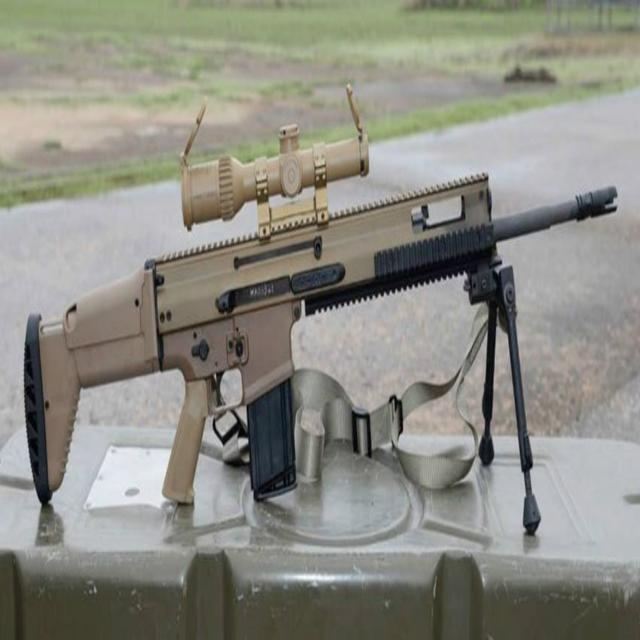Rifle: (23, 112, 618, 547)
